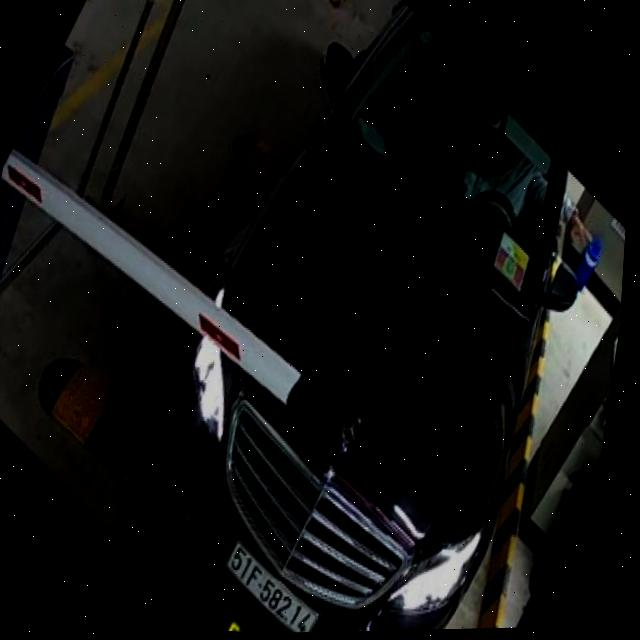car: (121, 0, 622, 636)
plate: (210, 533, 330, 634)
